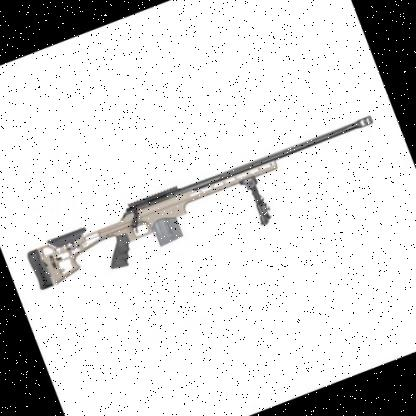rifle: (13, 106, 398, 314)
